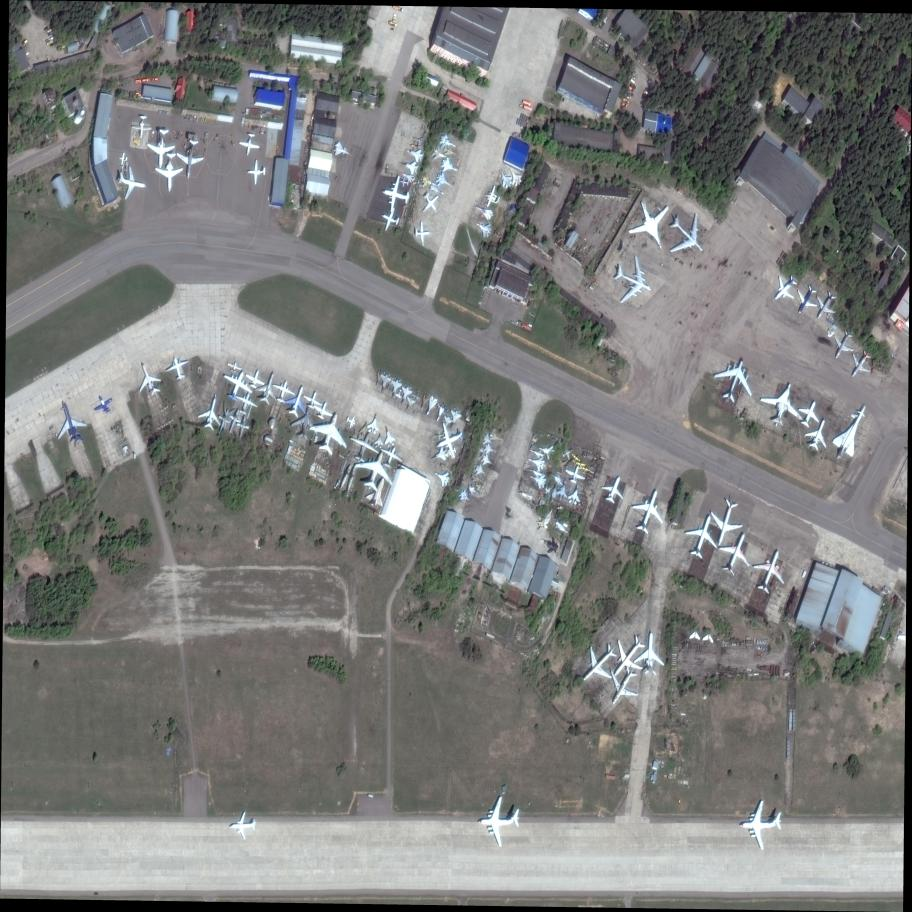plane: (656, 203, 718, 268), (749, 373, 815, 434), (569, 634, 629, 694), (300, 403, 361, 461), (598, 628, 656, 688), (826, 398, 877, 465), (623, 195, 679, 255), (707, 348, 761, 410), (607, 250, 659, 311), (595, 659, 649, 714), (711, 526, 761, 581), (678, 508, 727, 564), (746, 542, 794, 599), (626, 480, 672, 539), (703, 494, 748, 550), (739, 798, 783, 849), (478, 795, 520, 846), (48, 397, 90, 448), (341, 424, 387, 468), (214, 363, 260, 406), (764, 268, 806, 309), (841, 343, 879, 384), (788, 279, 826, 320), (633, 631, 668, 675), (823, 324, 861, 364), (432, 419, 468, 461), (800, 412, 835, 455), (378, 171, 413, 214), (807, 285, 844, 325), (174, 136, 207, 180), (114, 162, 149, 203), (281, 379, 315, 421), (131, 358, 165, 399), (153, 151, 186, 193), (252, 365, 284, 408), (195, 389, 227, 432), (145, 127, 177, 169), (792, 394, 826, 433), (597, 469, 631, 508), (288, 405, 321, 442), (374, 439, 408, 472), (230, 386, 263, 417), (364, 474, 393, 509), (267, 376, 300, 406), (211, 400, 237, 438), (416, 189, 446, 218), (234, 130, 264, 158), (228, 810, 256, 839), (240, 365, 270, 392), (163, 354, 193, 381), (377, 202, 403, 233), (90, 390, 118, 417), (562, 461, 590, 486), (309, 397, 337, 422), (299, 387, 326, 412), (224, 406, 245, 436), (129, 115, 154, 139), (429, 465, 454, 488), (537, 533, 562, 556), (330, 138, 355, 160), (482, 183, 502, 210), (336, 463, 354, 492), (246, 158, 266, 184), (471, 218, 495, 239), (432, 170, 456, 191), (495, 168, 516, 191), (504, 164, 524, 188), (396, 382, 415, 407), (414, 220, 432, 246), (234, 414, 252, 440), (438, 156, 461, 176), (526, 470, 549, 490), (566, 482, 584, 507), (404, 144, 426, 164), (436, 133, 459, 152), (344, 466, 359, 495), (365, 412, 383, 436), (431, 399, 449, 423), (473, 202, 495, 221), (535, 441, 557, 460), (376, 370, 394, 393), (387, 375, 404, 399), (526, 453, 547, 472), (224, 357, 245, 375), (554, 478, 570, 501), (423, 395, 439, 418), (417, 172, 437, 190), (429, 446, 449, 464), (548, 469, 566, 488), (401, 158, 421, 175), (447, 405, 464, 425), (343, 411, 359, 432), (382, 429, 398, 448), (456, 487, 473, 504), (430, 147, 448, 163), (428, 183, 446, 198), (471, 463, 489, 478), (527, 445, 546, 459), (441, 143, 458, 158), (400, 170, 417, 185), (411, 133, 428, 148), (372, 368, 385, 387), (559, 445, 574, 461), (554, 520, 570, 535), (402, 395, 417, 411), (479, 453, 495, 468), (440, 412, 454, 429), (418, 392, 431, 410), (554, 457, 569, 472), (471, 481, 487, 495), (372, 432, 385, 448), (469, 472, 485, 485), (549, 483, 559, 503), (569, 451, 583, 465), (420, 122, 433, 137), (482, 432, 495, 447), (358, 421, 370, 437), (488, 431, 504, 443), (518, 489, 534, 501), (439, 462, 453, 475), (445, 446, 459, 459), (410, 387, 422, 402), (482, 443, 497, 455), (466, 484, 480, 496), (393, 387, 404, 402), (159, 402, 171, 415), (163, 415, 175, 428), (385, 375, 395, 390), (155, 420, 167, 432), (578, 464, 591, 475), (119, 152, 129, 165), (433, 429, 444, 440), (575, 459, 587, 469), (399, 176, 409, 188), (410, 141, 419, 152)
small-vehicle: (42, 26, 49, 32), (48, 36, 55, 41), (49, 42, 55, 47), (47, 28, 52, 33), (94, 892, 98, 894)
